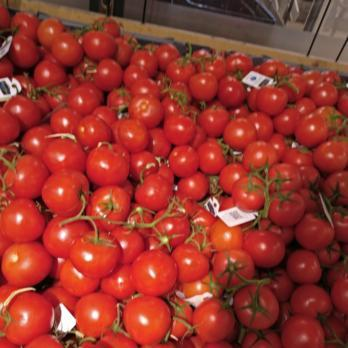Tomato: (0, 80, 348, 348), (3, 22, 121, 97), (129, 38, 204, 104), (214, 46, 275, 116)
